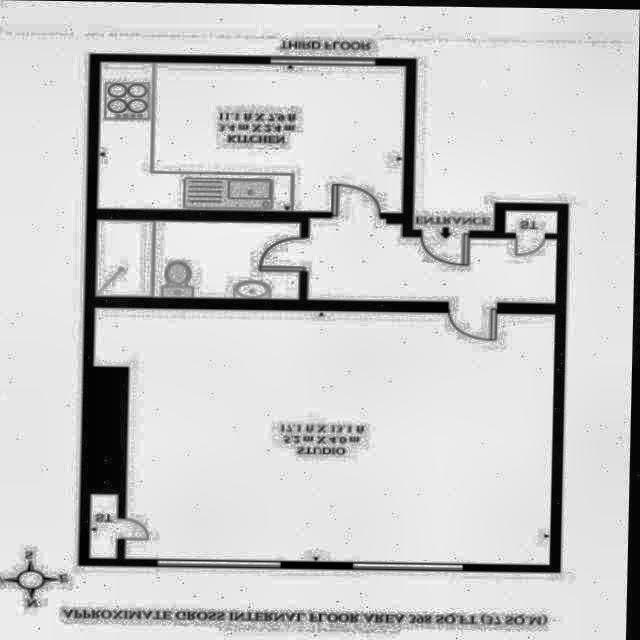room: (92, 308, 559, 563), (98, 62, 405, 214), (309, 221, 558, 305), (97, 220, 302, 299), (93, 494, 120, 558), (506, 209, 558, 231)
